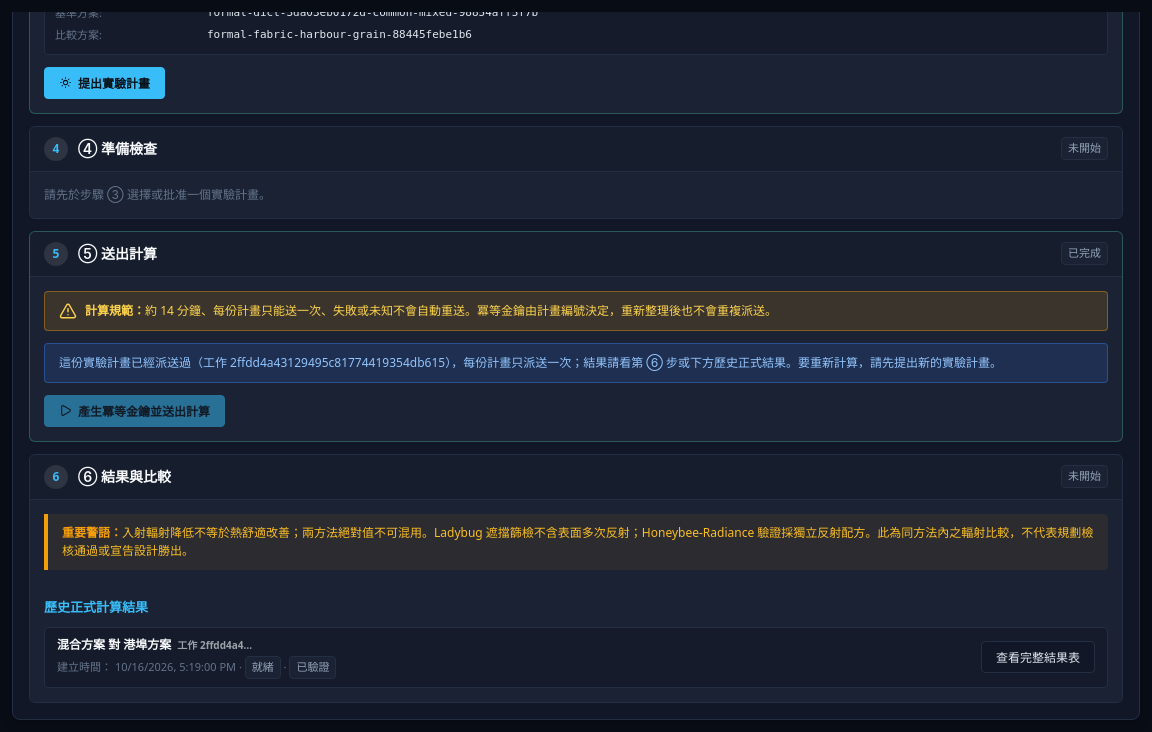
Scenario: E2Workspace Component › renders real numbers fixture table, direction agreement, and warning notice
(page scrolled)
Note: Load the historical job result
Click the button "查看完整結果表".
click(1038, 657)  # box [981,641,1095,673]
(page scrolled)
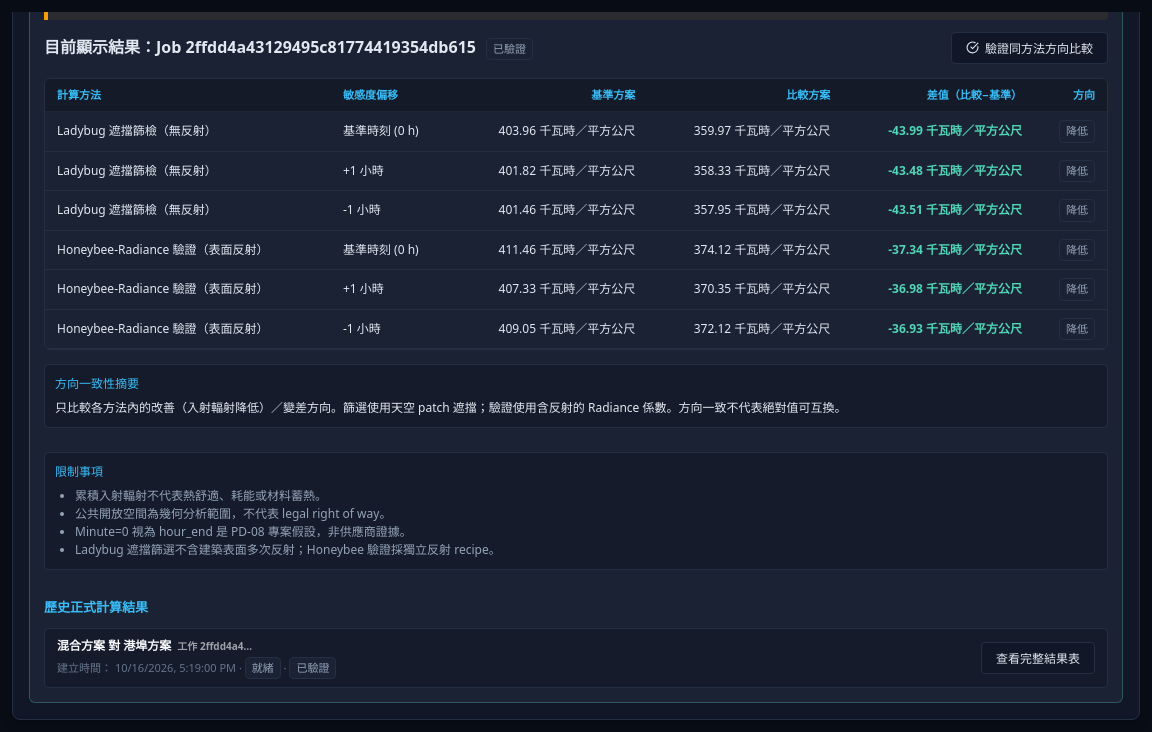
Expected: the text "403.96 千瓦時／平方公尺" is shown, [452,112,647,151]
Expected: the text "359.97 千瓦時／平方公尺" is shown, [647,112,842,151]
Expected: the text "-43.99 千瓦時／平方公尺" is shown, [842,112,1034,151]
